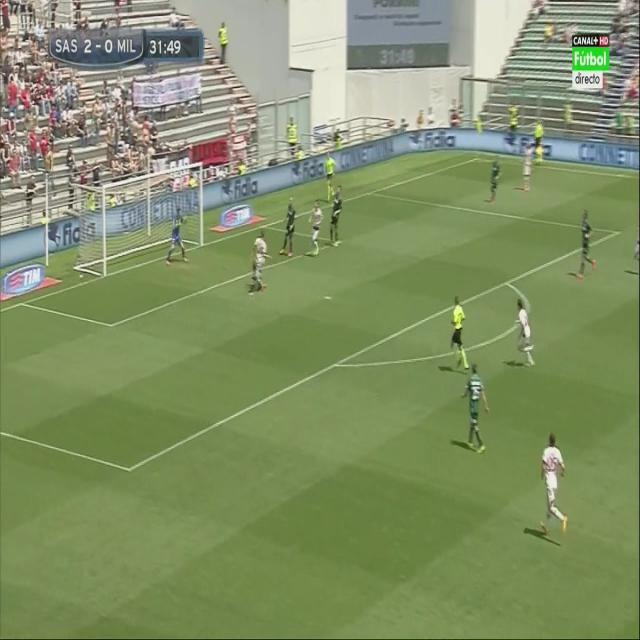Goalkeeper: (164, 202, 191, 271)
Player: (538, 430, 570, 540), (461, 360, 492, 454), (514, 297, 537, 374), (576, 206, 597, 282), (249, 226, 270, 298), (279, 197, 296, 260), (306, 200, 324, 258), (328, 187, 343, 250), (488, 154, 502, 206), (522, 143, 536, 192)
Referee: (447, 295, 469, 370), (323, 150, 337, 202), (533, 120, 545, 171)
